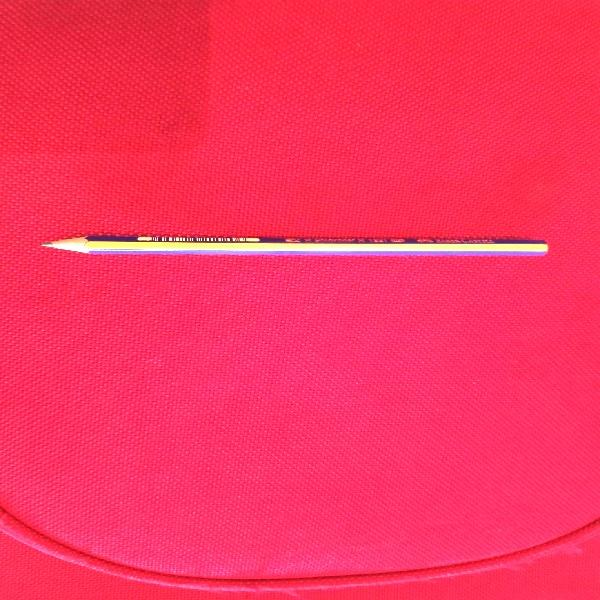pencil: (45, 235, 547, 255)
